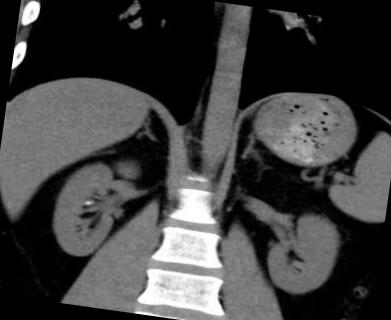Tas_Var: (83, 199, 90, 205), (88, 200, 94, 204)
